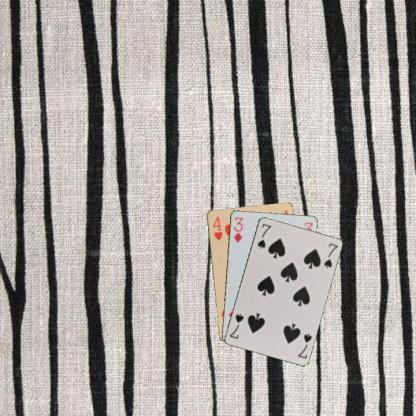3d: (231, 214, 245, 244)
4h: (209, 214, 224, 241)
7s: (295, 330, 313, 360), (255, 220, 272, 250)
